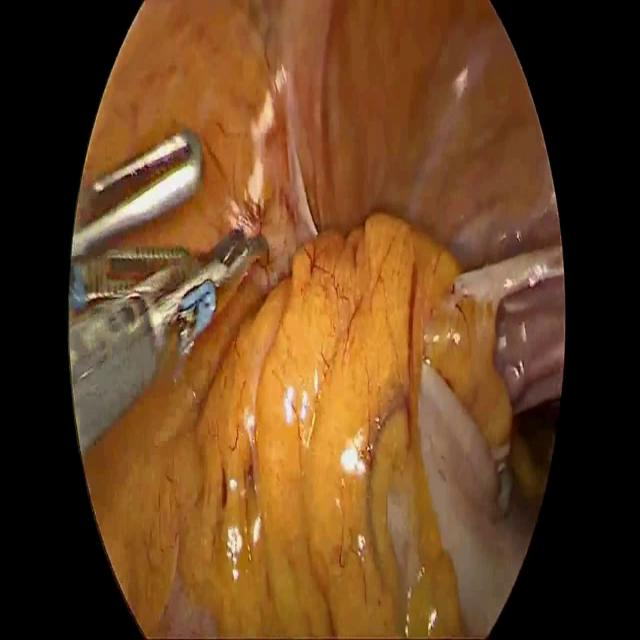surgical-area: (80, 0, 565, 639)
surgical-tool: (68, 128, 270, 456)
